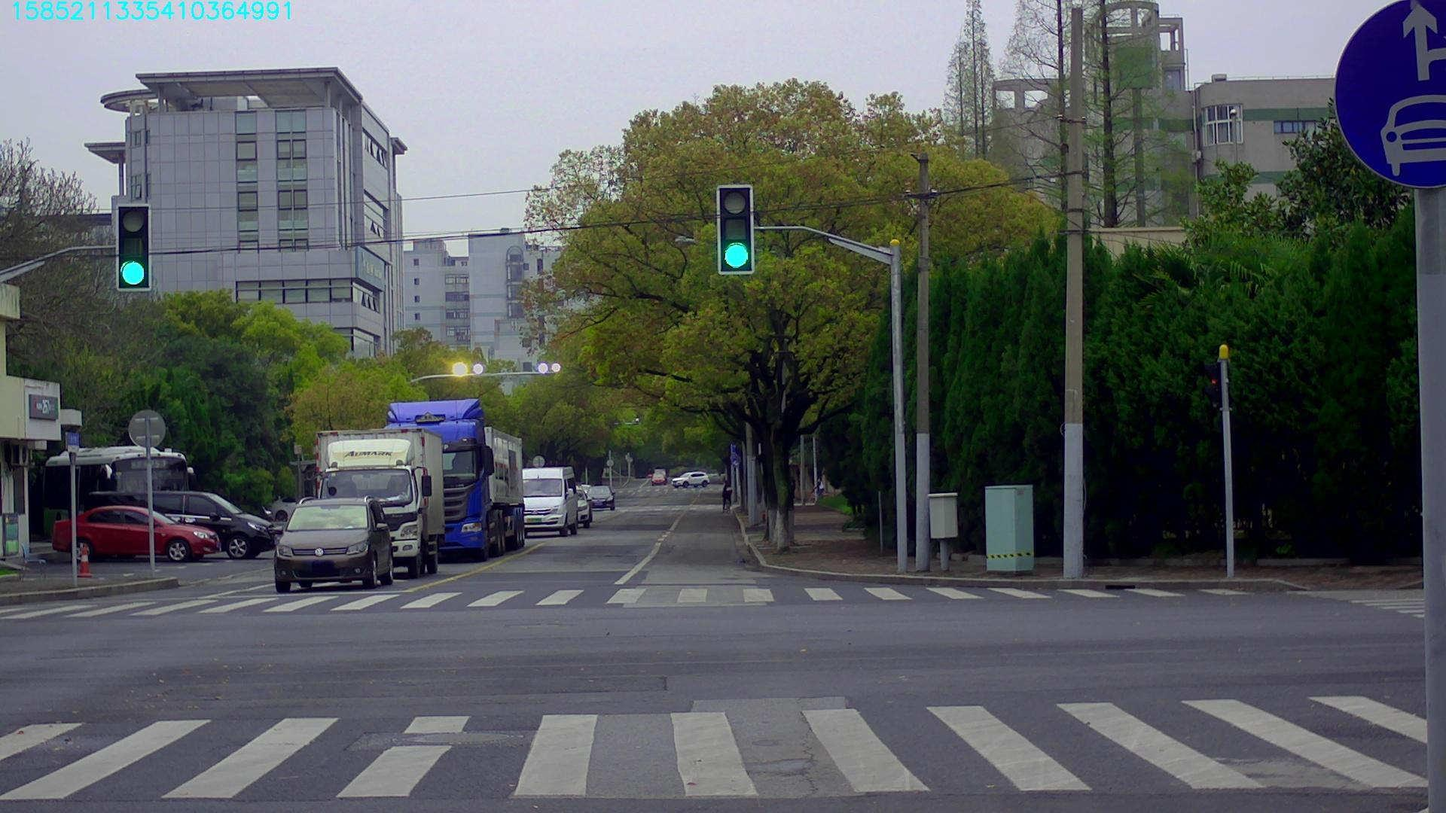green: (718, 186, 752, 272), (117, 205, 149, 288)
